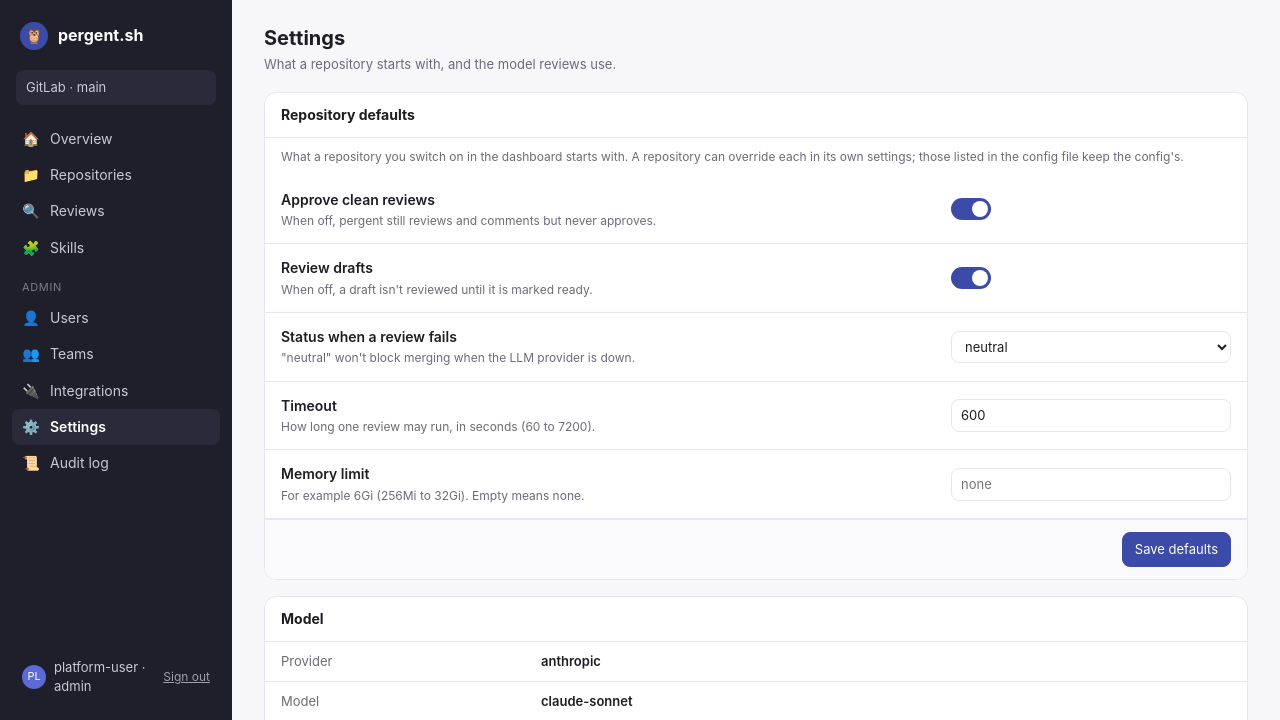
Test: AdminSettings defaults › refuses a timeout that isn't a whole number without asking the server
This screenshot has width=1280, height=720.
Clear the number field named "Timeout (seconds)": point(1091, 415) [951, 399, 1231, 432]
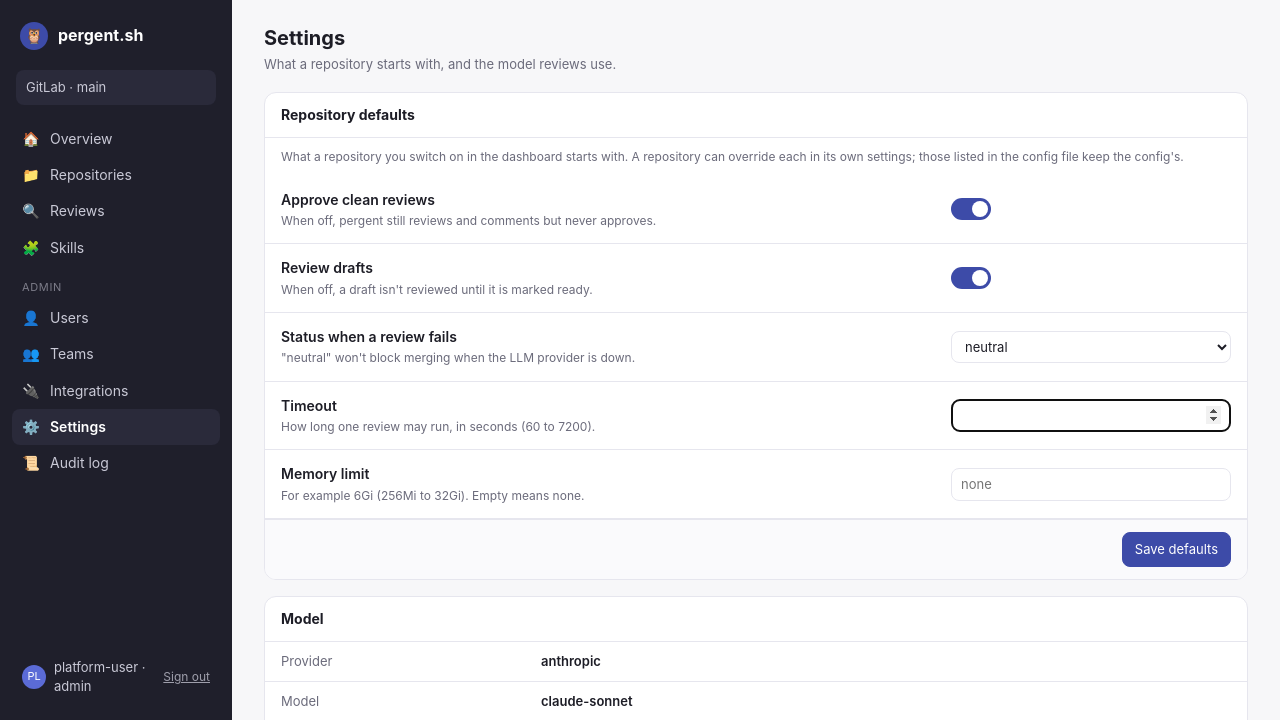
Click the button "Save defaults": point(1176, 549) [1122, 532, 1231, 567]
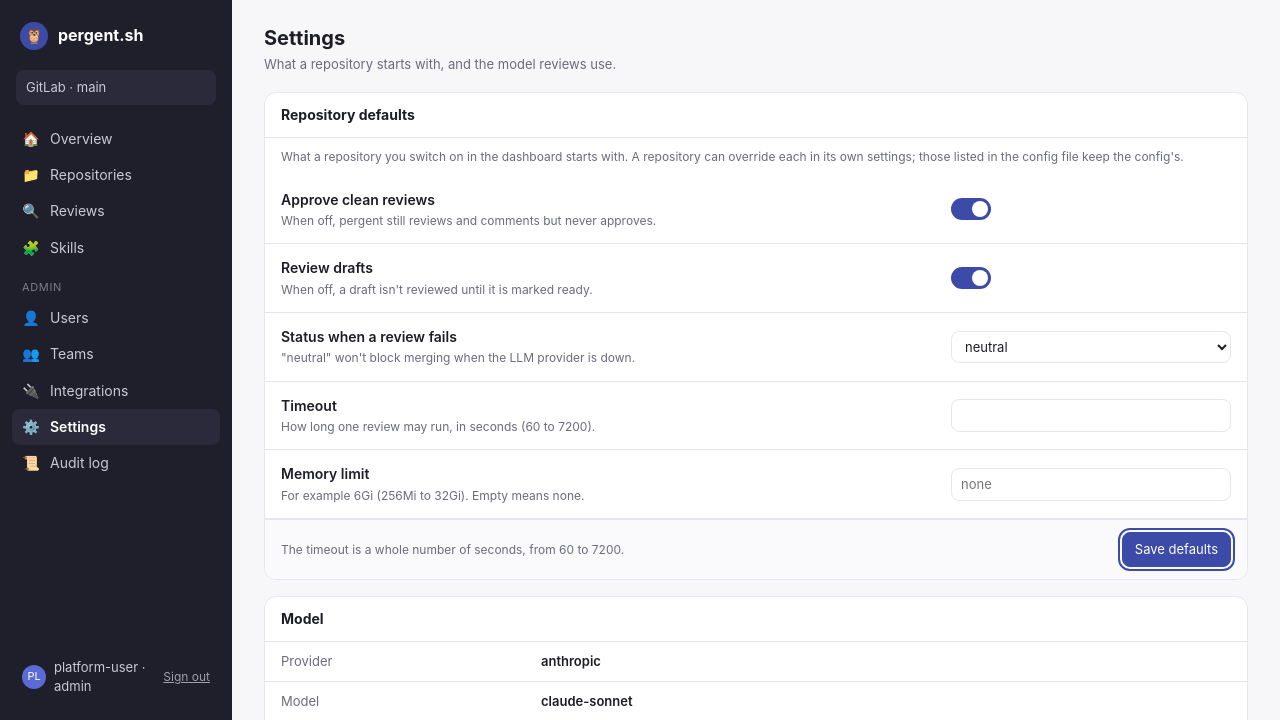
Now the text "The timeout is a whole number of seconds, from 60 to 7200." is shown, box [281, 541, 624, 558]
